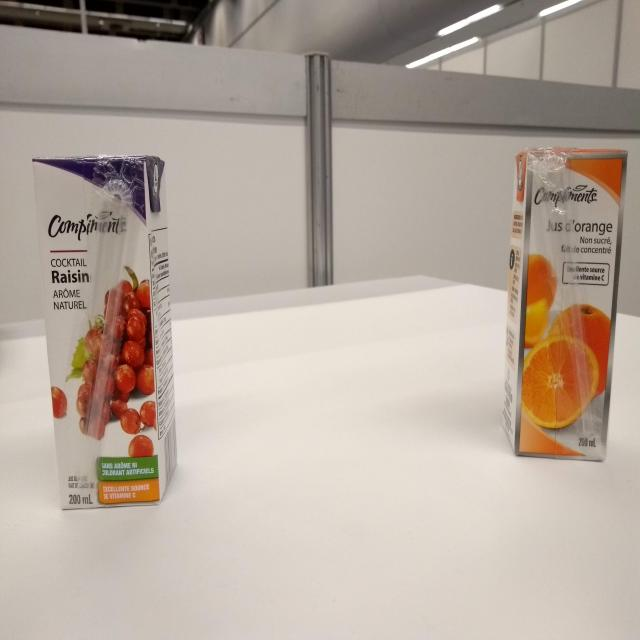grape_juice: (27, 148, 182, 518)
orange_juice: (499, 142, 633, 470)
